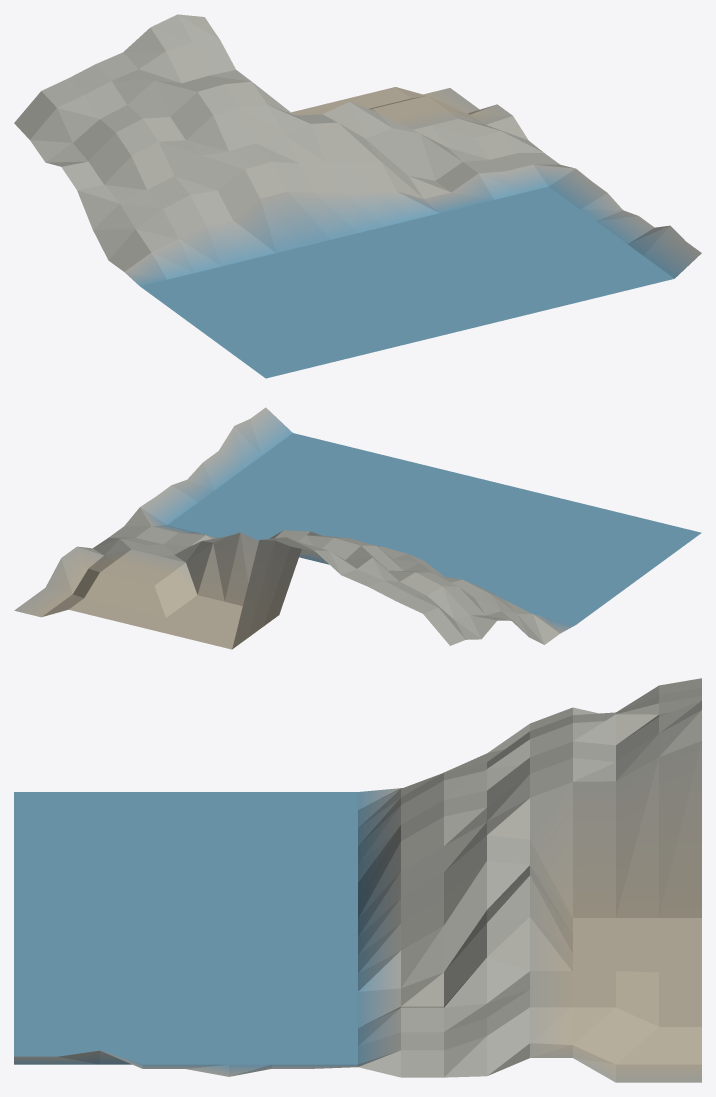
The picture shows the model from 3 angles, top to bottom: view 1: azimuth 30°, elevation 25°; view 2: azimuth 150°, elevation 25°; view 3: azimuth 270°, elevation 25°; orthographic projection. The views are drawn at different scales.
Bounding box in the file's own units: 32 × 9.81 × 32.
